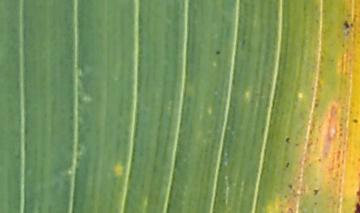tarspot: (343, 20, 351, 28), (214, 48, 221, 57), (355, 202, 360, 213), (353, 118, 360, 125), (287, 182, 293, 189), (285, 161, 290, 169), (313, 189, 319, 195), (285, 136, 290, 143), (356, 191, 360, 196)
